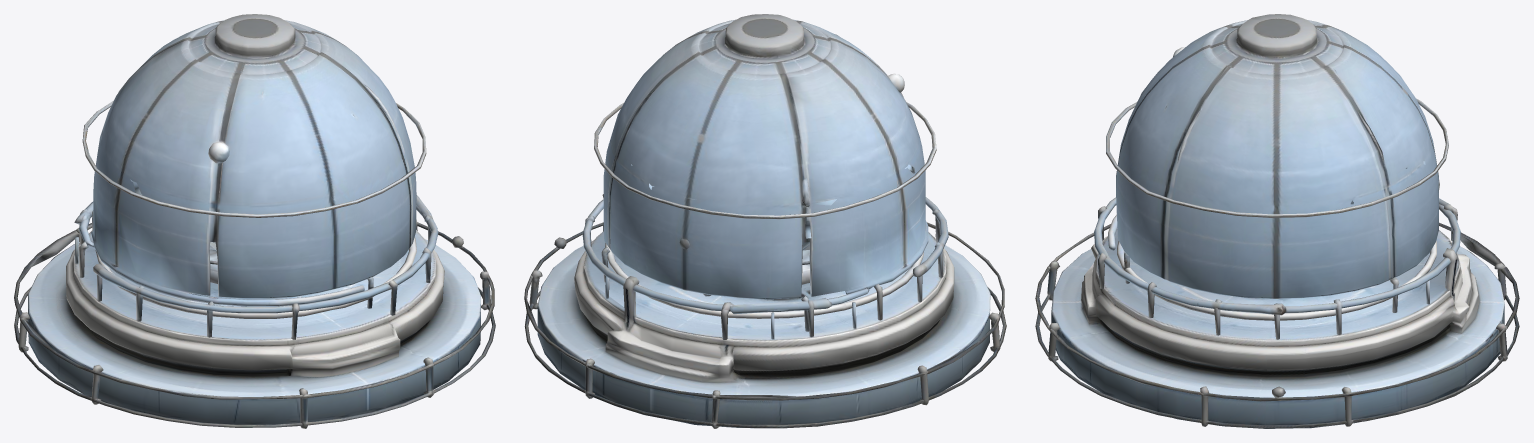
File: loop-glow-ring-compressed.glb
The picture shows the model from 3 angles, left to right: view 1: azimuth 30°, elevation 25°; view 2: azimuth 150°, elevation 25°; view 3: azimuth 270°, elevation 25°; orthographic projection.
Parts seen in each view (by area): view 1: Mesh_0; view 2: Mesh_0; view 3: Mesh_0.
Part boxes in pixels (x1=…): Mesh_0: x1=14, y1=14, x2=495, y2=428; Mesh_0: x1=524, y1=14, x2=1006, y2=428; Mesh_0: x1=1035, y1=14, x2=1519, y2=428.
Bounding box in the file's own units: 1.72 × 1.2 × 1.72.
1 material, 1 textured.
